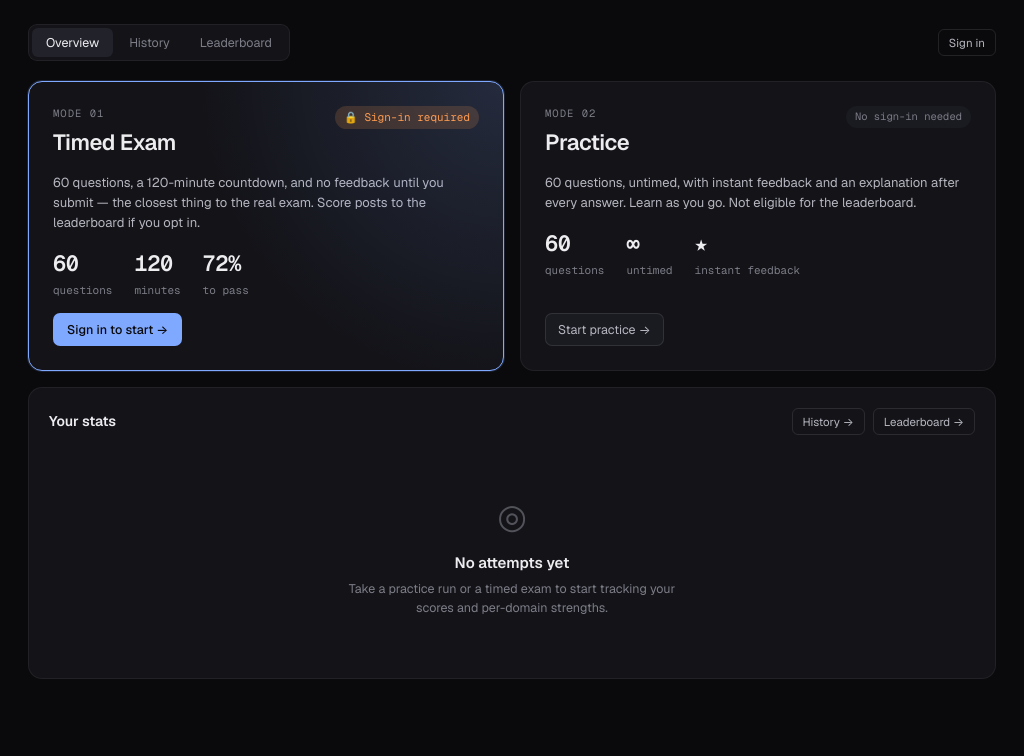
PracticeExam › shows an empty leaderboard banner state and the seeded board
Click the button "Leaderboard".
click(236, 42)  # box left=186, top=28, right=286, bottom=57
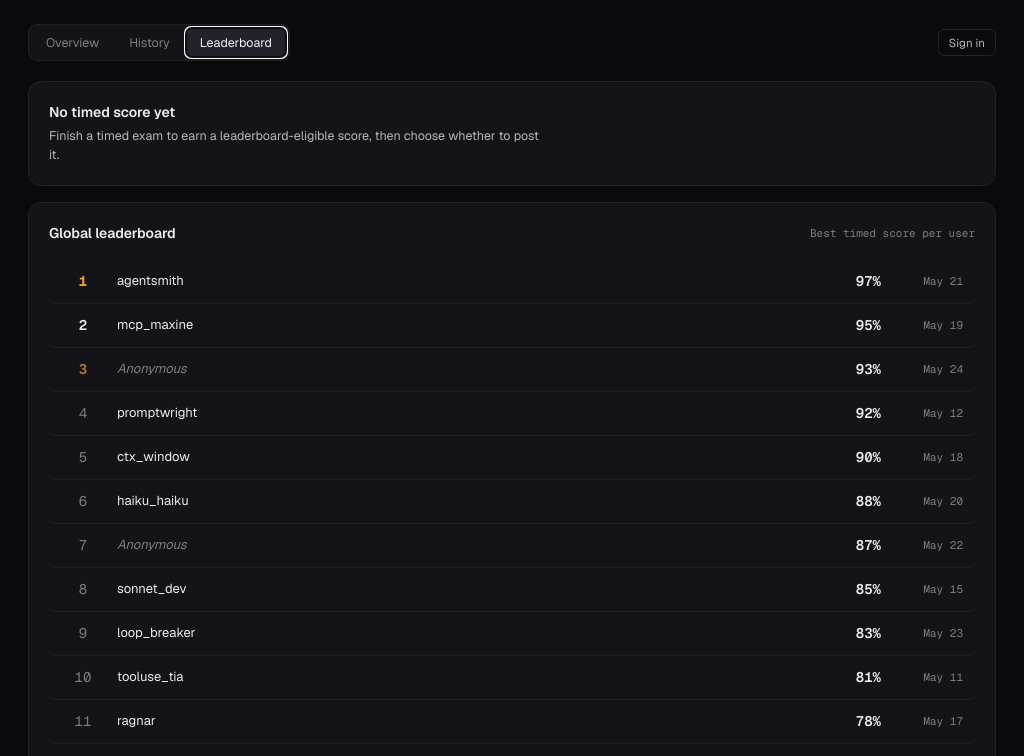
expect the text "No timed score yet" is shown: met, box left=49, top=103, right=175, bottom=121
expect the text "agentsmith" is shown: met, box left=117, top=272, right=184, bottom=289
